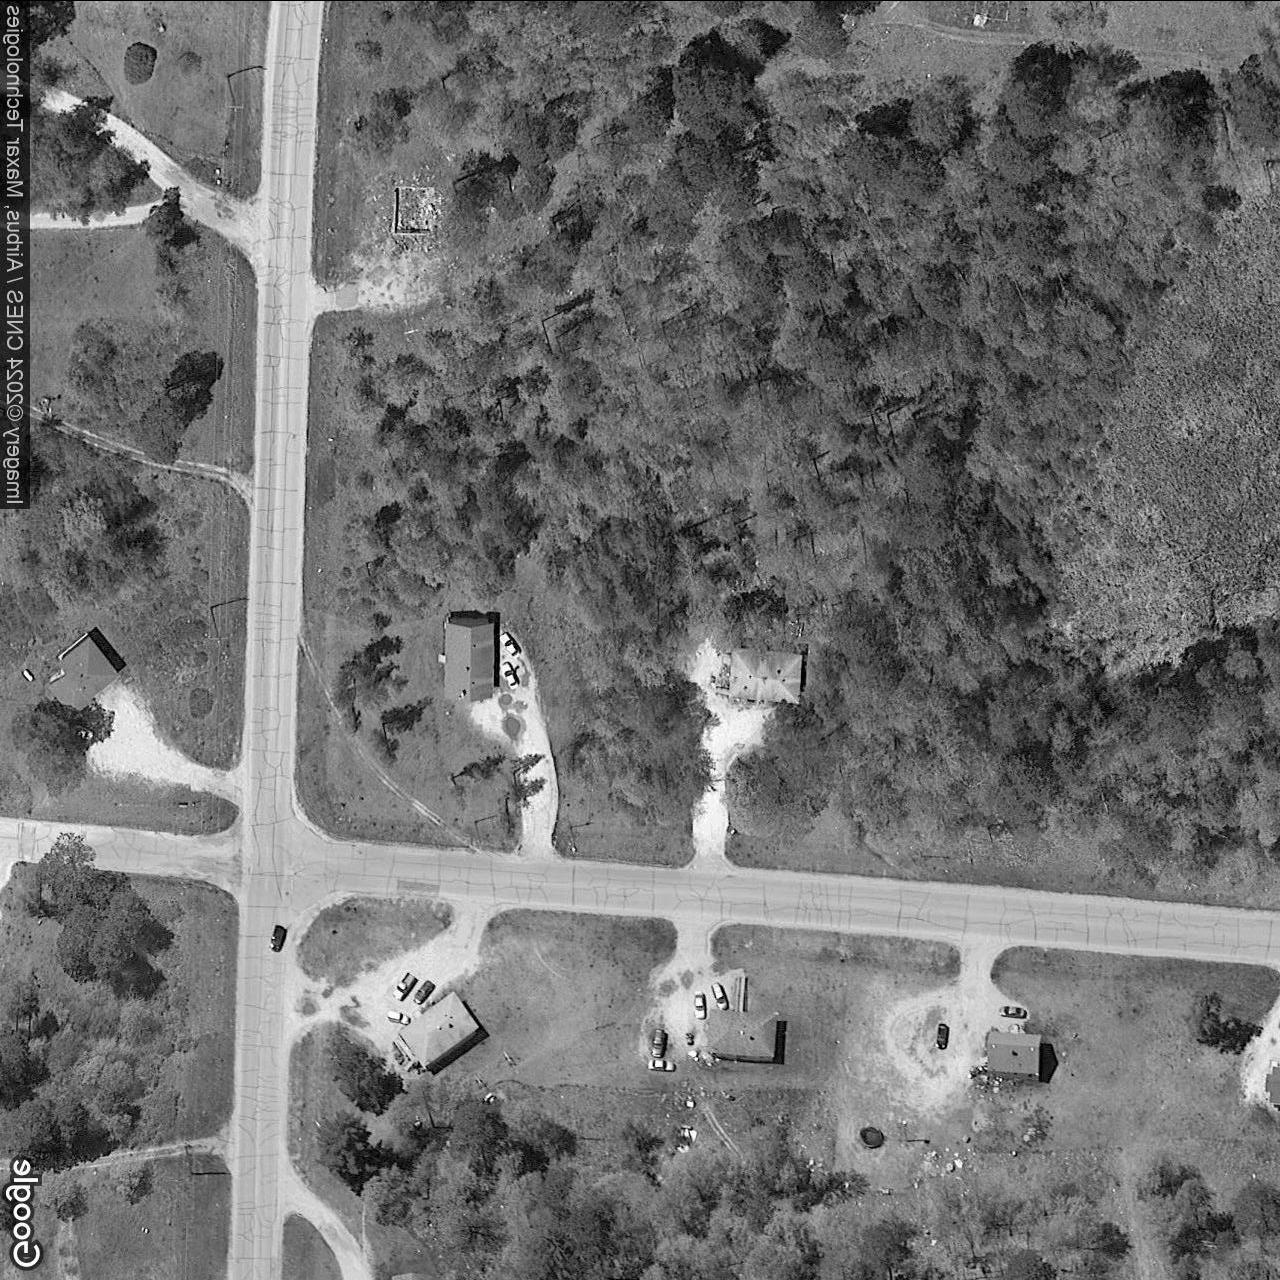House: (397, 987, 481, 1070), (46, 629, 122, 719), (727, 644, 804, 707), (443, 614, 495, 703), (704, 1006, 779, 1062), (985, 1027, 1046, 1076), (1266, 1064, 1280, 1104), (390, 1269, 430, 1279)
Propane: (21, 666, 36, 682)
